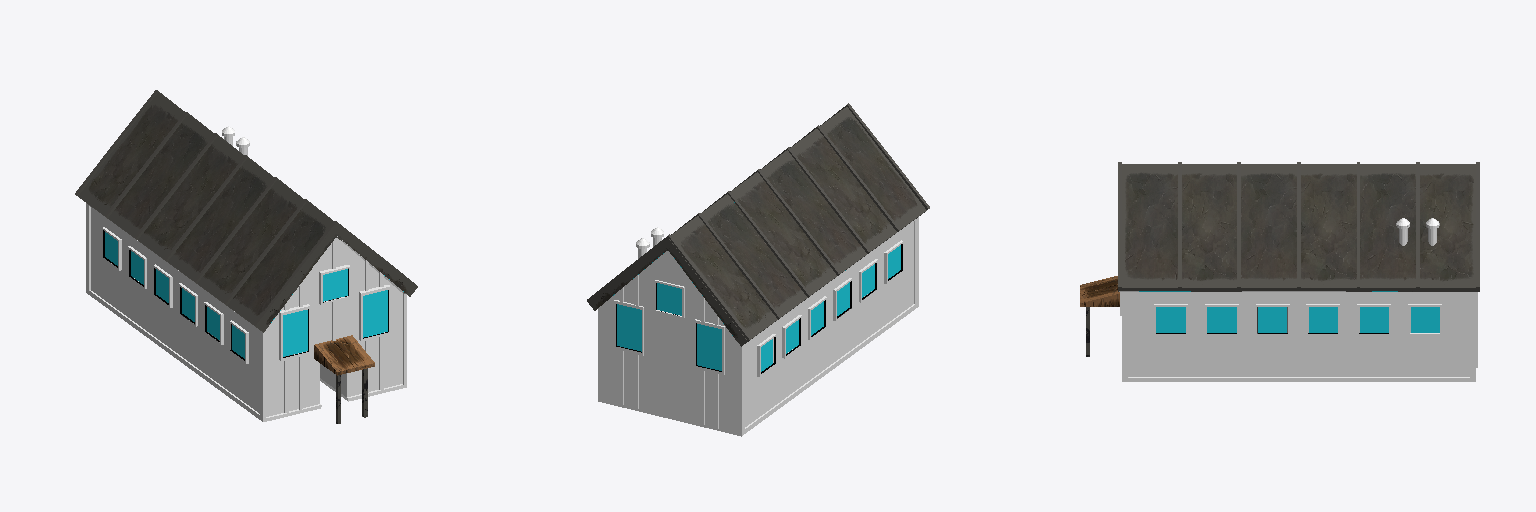
The picture shows the model from 3 angles: view 1: azimuth 30°, elevation 25°; view 2: azimuth 150°, elevation 25°; view 3: azimuth 270°, elevation 25°; orthographic projection.
Parts seen in each view (by area): view 1: Cube.001, Cube, Cube.008_Cube.011, Cube.002_Cube.010, Cube.003, Cube.004, Cube.007_Cube.006, Cube.010_Cube.009; view 2: Cube.001, Cube, Cube.008_Cube.011, Cube.002_Cube.010, Cube.003, Cube.010_Cube.009, Cube.007_Cube.006; view 3: Cube.001, Cube, Cube.002_Cube.010, Cube.003, Cube.004.
Part boxes in pixels (x1,y1,x2,y2): Cube.001: (75,90,417,332); Cube: (86,203,406,421); Cube.008_Cube.011: (283,269,387,356); Cube.002_Cube.010: (105,232,244,358); Cube.003: (102,227,248,363); Cube.004: (314,335,374,375); Cube.007_Cube.006: (279,265,390,360); Cube.010_Cube.009: (284,238,383,412); Cube.001: (587,103,929,346); Cube: (598,217,918,436); Cube.008_Cube.011: (617,283,721,370); Cube.002_Cube.010: (761,245,900,371); Cube.003: (757,240,903,376); Cube.010_Cube.009: (620,275,718,428); Cube.007_Cube.006: (614,280,724,374); Cube.001: (1118,162,1479,291); Cube: (1122,292,1475,381); Cube.002_Cube.010: (1156,307,1439,332); Cube.003: (1154,304,1441,335); Cube.004: (1080,276,1119,306).
Bounding box in the file's own units: 7.52 × 8.24 × 15.97.
Materials: 5 (1 with a texture image).